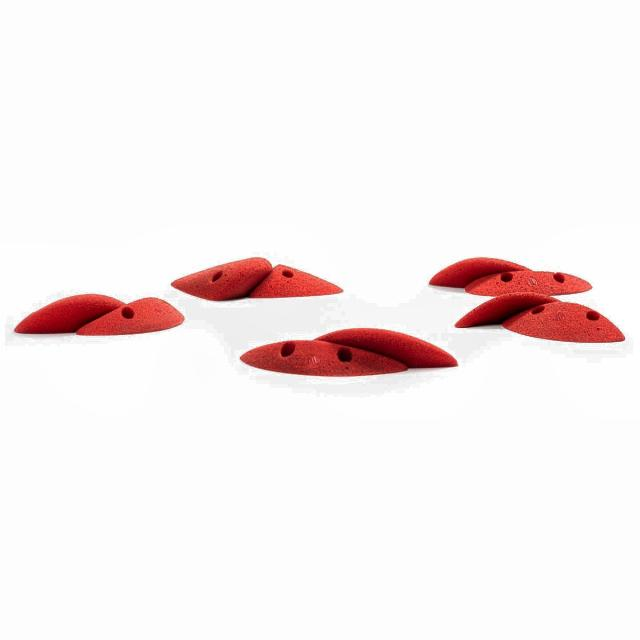Hold: (240, 327, 462, 378), (457, 300, 630, 346), (432, 253, 594, 298), (168, 262, 347, 296), (13, 297, 189, 331)
